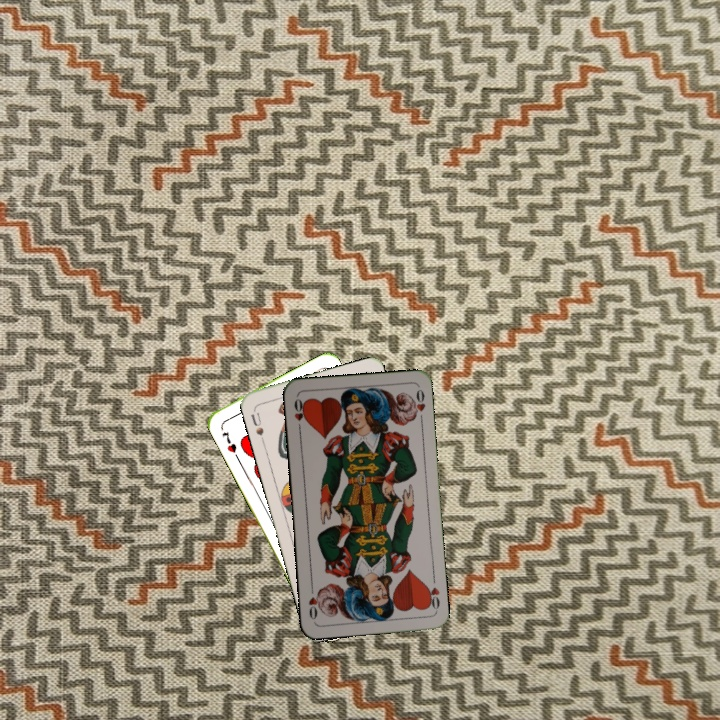H7: (218, 427, 239, 456)
HO: (422, 573, 442, 613), (290, 394, 309, 434)
SU: (247, 405, 267, 445)
